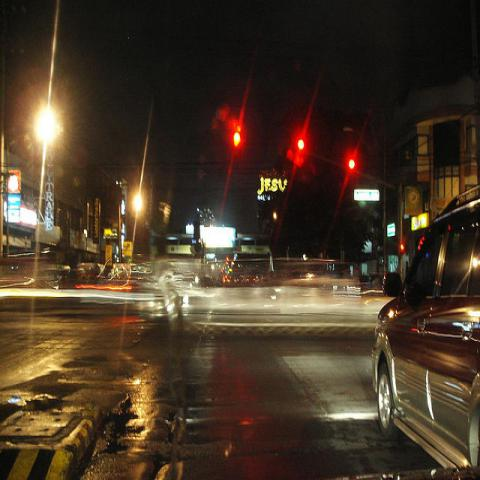car: (369, 181, 479, 471)
